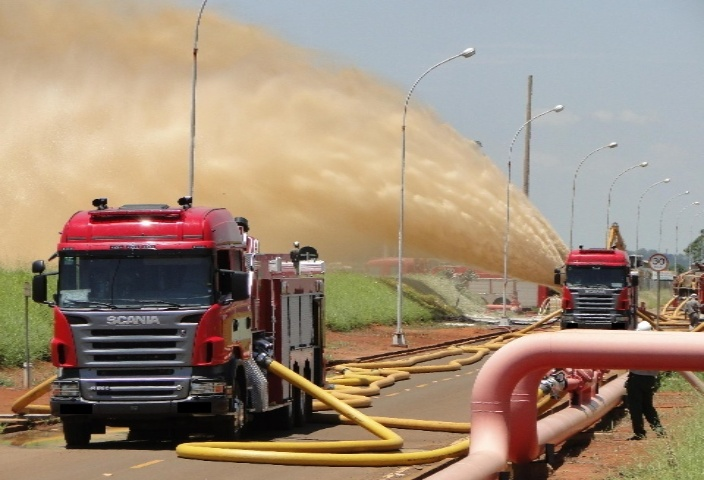industrial: (34, 185, 348, 444), (544, 244, 652, 350)
